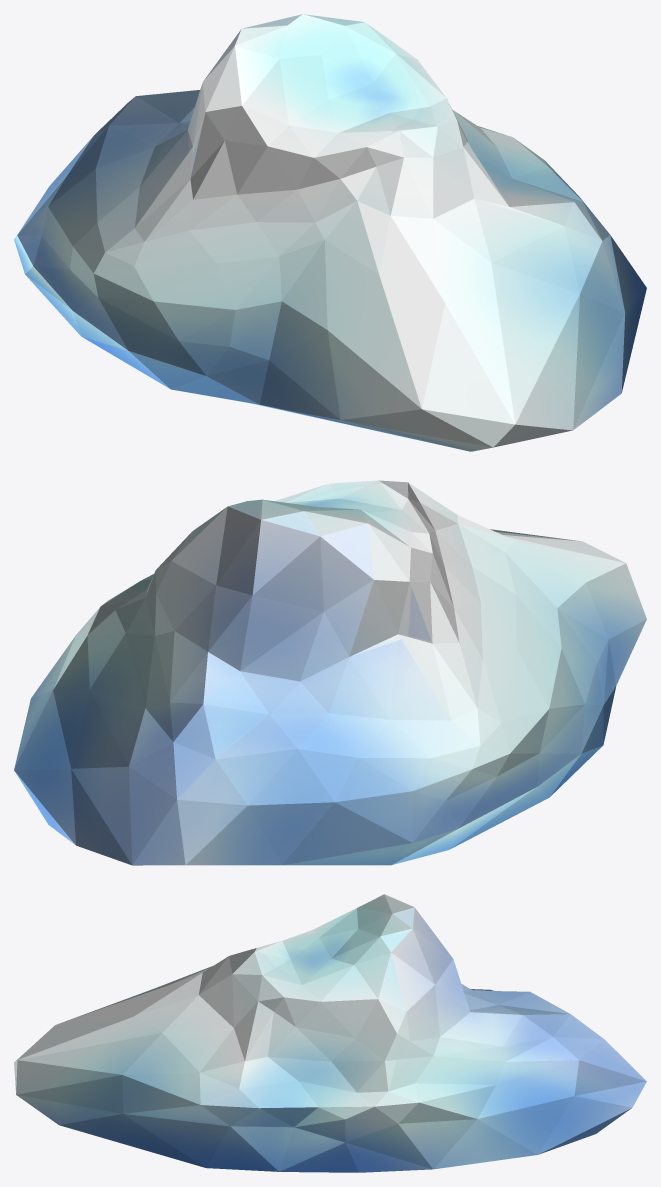
The model's file is iceberg3.fbx.
3 views of the same model, one above another, from view 1: azimuth 30°, elevation 25°; view 2: azimuth 150°, elevation 25°; view 3: azimuth 270°, elevation 25° (orthographic). The views are drawn at different scales.
Visible parts, largest first — view 1: Icosphere; view 2: Icosphere; view 3: Icosphere.
Part boxes in pixels (<box>): Icosphere: <box>14,14,646,451</box>; Icosphere: <box>14,480,646,865</box>; Icosphere: <box>14,894,646,1172</box>.
Bounding box in the file's own units: 3293 × 1716 × 5114.
